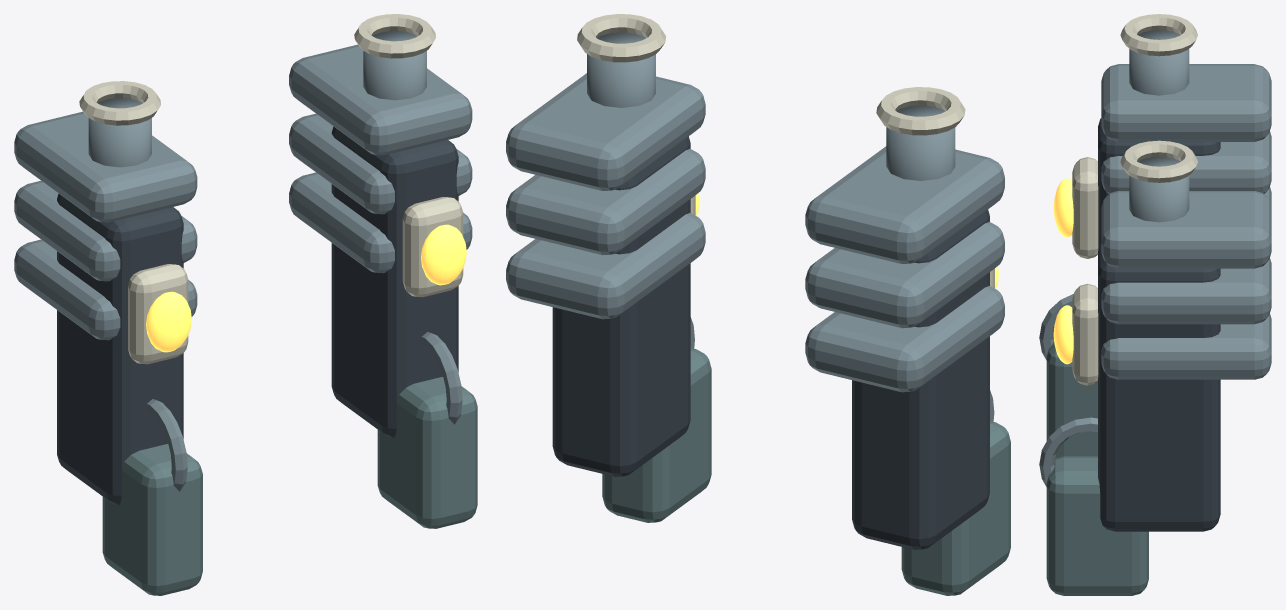
The model's file is YK_03_Soryeong_Weapon_E01.glb.
The picture shows the model from 3 angles, left to right: view 1: azimuth 30°, elevation 25°; view 2: azimuth 150°, elevation 25°; view 3: azimuth 270°, elevation 25°; orthographic projection. The views are drawn at different scales.
Visible parts, largest first — view 1: SM_YK_03_Soryeong_Weapon_P00_R, SM_YK_03_Soryeong_Weapon_P00_L, SM_YK_03_Soryeong_Weapon_P01_L, SM_YK_03_Soryeong_Weapon_P01_R; view 2: SM_YK_03_Soryeong_Weapon_P00_R, SM_YK_03_Soryeong_Weapon_P00_L, SM_YK_03_Soryeong_Weapon_P01_L, SM_YK_03_Soryeong_Weapon_P01_R; view 3: SM_YK_03_Soryeong_Weapon_P00_R, SM_YK_03_Soryeong_Weapon_P01_R, SM_YK_03_Soryeong_Weapon_P01_L, SM_YK_03_Soryeong_Weapon_P00_L.
Boxes of the visible parts, x1=… form: SM_YK_03_Soryeong_Weapon_P00_R: x1=331, y1=14, x2=477, y2=528; SM_YK_03_Soryeong_Weapon_P00_L: x1=57, y1=81, x2=202, y2=595; SM_YK_03_Soryeong_Weapon_P01_L: x1=14, y1=111, x2=197, y2=340; SM_YK_03_Soryeong_Weapon_P01_R: x1=289, y1=44, x2=472, y2=273; SM_YK_03_Soryeong_Weapon_P00_R: x1=552, y1=14, x2=711, y2=522; SM_YK_03_Soryeong_Weapon_P00_L: x1=852, y1=87, x2=1010, y2=595; SM_YK_03_Soryeong_Weapon_P01_L: x1=805, y1=146, x2=1004, y2=392; SM_YK_03_Soryeong_Weapon_P01_R: x1=506, y1=73, x2=705, y2=319; SM_YK_03_Soryeong_Weapon_P00_R: x1=1039, y1=140, x2=1220, y2=595; SM_YK_03_Soryeong_Weapon_P01_R: x1=1101, y1=191, x2=1271, y2=379; SM_YK_03_Soryeong_Weapon_P01_L: x1=1101, y1=64, x2=1271, y2=206; SM_YK_03_Soryeong_Weapon_P00_L: x1=1039, y1=14, x2=1220, y2=458.
Bounding box in the file's own units: 0.61 × 0.7004 × 0.341.
